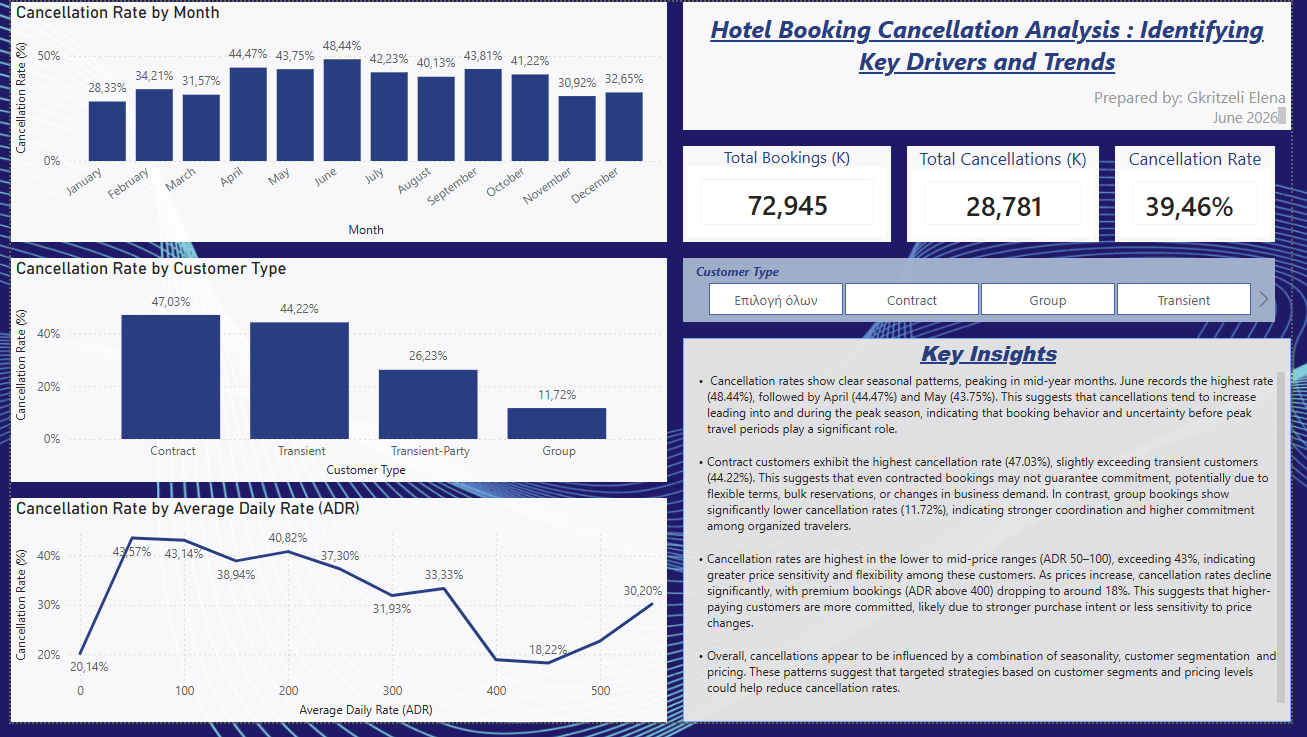

Layout of this report page (visuals, bound fields, positions):
{"tool":"powerbi","page":{"name":"Analysis of Booking Cancellations & Key Drivers","canvas":[1280,720],"ordinal":0},"visuals":[{"type":"clusteredColumnChart","title":"Cancellation  Rate by Month","fields":{"Category":["hotel_bookings.arrival_date_month"],"Y":["hotel_bookings.Cancellation Rate"]},"box":[0,0,656,240],"z":0},{"type":"clusteredColumnChart","title":"Cancellation Rate by Customer Type","fields":{"Category":["hotel_bookings.customer_type"],"Y":["hotel_bookings.Cancellation Rate"]},"box":[0,256,656,224],"z":1000},{"type":"lineChart","title":"Cancellation Rate by Average Daily Rate (ADR)","fields":{"Category":["hotel_bookings.adr (θέσεις αποθήκευσης)"],"Y":["hotel_bookings.Cancellation Rate"]},"box":[0,496,656,224],"z":2000},{"type":"textbox","title":"Key Insights","box":[672,336,608,384],"z":3000},{"type":"textbox","title":"Hotel Booking Cancellation Analysis : Identifying Key Drivers and Trends","box":[672,0,608,128],"z":4000},{"type":"cardVisual","title":"Total Cancellations (K)","fields":{"Data":["hotel_bookings.Total Cancellations (K)"]},"box":[896,144,192,96],"z":5000},{"type":"cardVisual","title":"Total Bookings (K)","fields":{"Data":["hotel_bookings.Total Bookings K"]},"box":[672,144,208,96],"z":6000},{"type":"cardVisual","title":"Cancellation Rate","fields":{"Data":["hotel_bookings.Cancellation Rate"]},"box":[1104,144,160,96],"z":7000},{"type":"slicer","fields":{"Values":["hotel_bookings.customer_type"]},"box":[672,256,592,64],"z":8000}]}

Visuals, with their boxes in screenshot pixels (x1, y1, x2, y2), scaled from the page's 1280x720 canvas onto the 1307x737 screenshot:
"Cancellation  Rate by Month" clusteredColumnChart: Rect(0, 0, 670, 246)
"Cancellation Rate by Customer Type" clusteredColumnChart: Rect(0, 262, 670, 491)
"Cancellation Rate by Average Daily Rate (ADR)" lineChart: Rect(0, 508, 670, 736)
"Key Insights" textbox: Rect(686, 344, 1306, 736)
"Hotel Booking Cancellation Analysis : Identifying Key Drivers and Trends" textbox: Rect(686, 0, 1306, 131)
"Total Cancellations (K)" cardVisual: Rect(915, 147, 1111, 246)
"Total Bookings (K)" cardVisual: Rect(686, 147, 899, 246)
"Cancellation Rate" cardVisual: Rect(1127, 147, 1291, 246)
slicer - hotel_bookings.customer_type: Rect(686, 262, 1291, 328)
